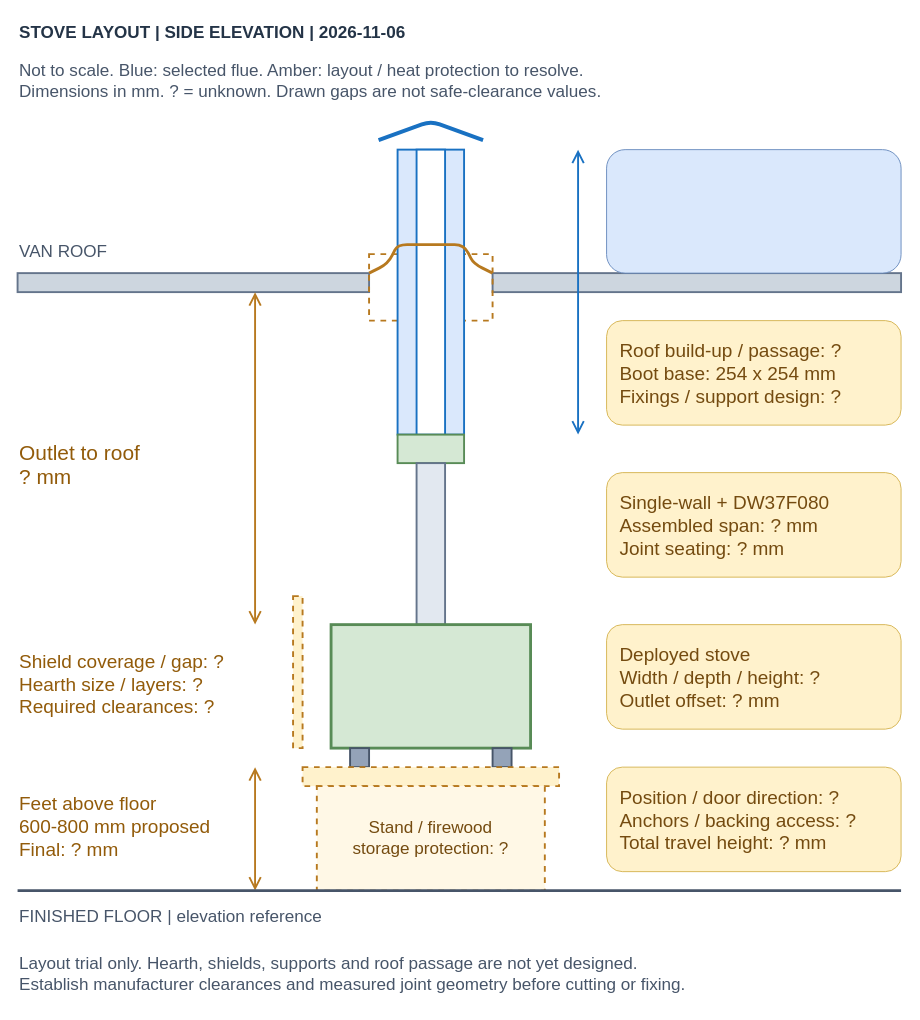
The diagram is 920 pixels wide and 1020 high, and some of its shapes have lost their labels. Here are the shapes that lost their labels. From the top down, the centre of each, then its label:
At point (753, 211): "DW13080 940 mm installed 80 mm bore / 145 mm shell Above / below roof: ? mm".
At point (430, 686): "Boutique Traditional".
